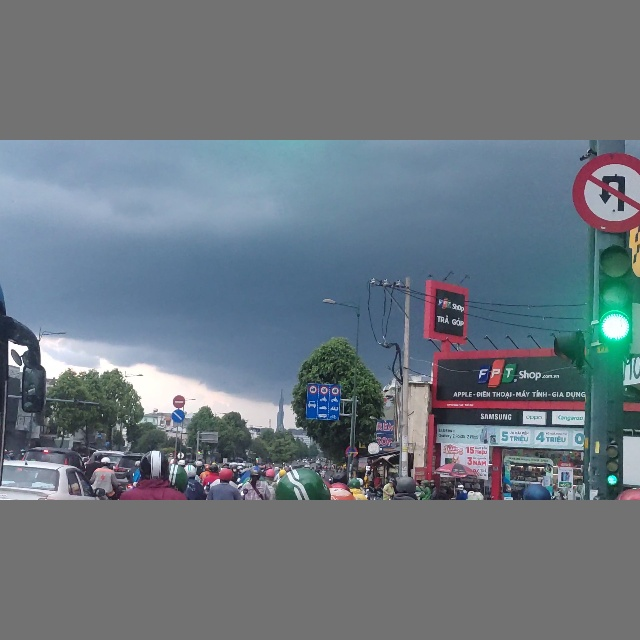P.102: (173, 395, 186, 408)
P.124a*: (572, 153, 640, 234)
R.302a: (171, 409, 185, 423)
R.415a: (306, 383, 341, 420)
